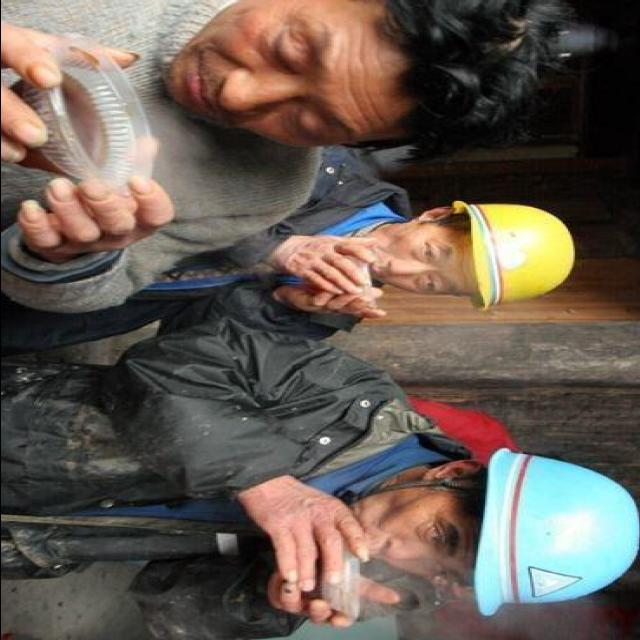helmet: (482, 434, 640, 623), (448, 185, 580, 313)
